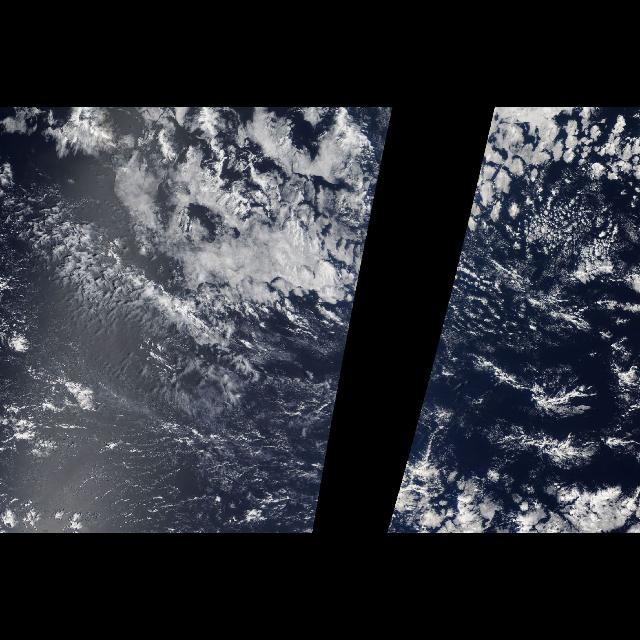Sugar: (1, 353, 322, 527), (472, 160, 640, 388)
